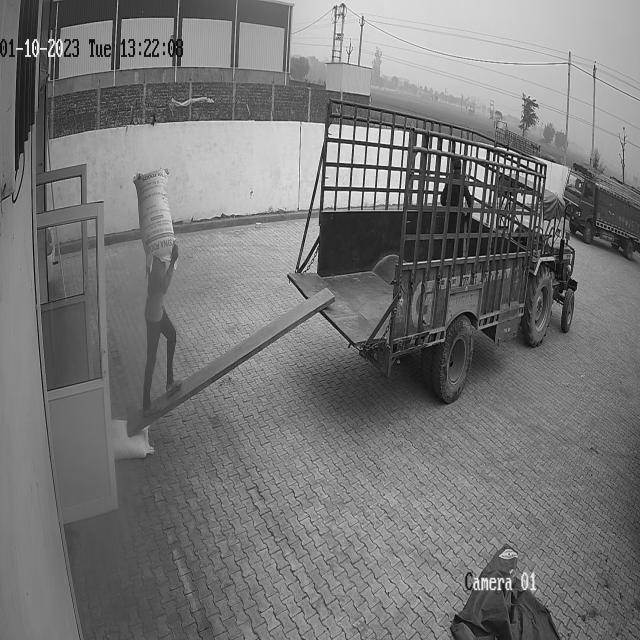sack: (134, 168, 175, 272), (112, 418, 155, 458)
